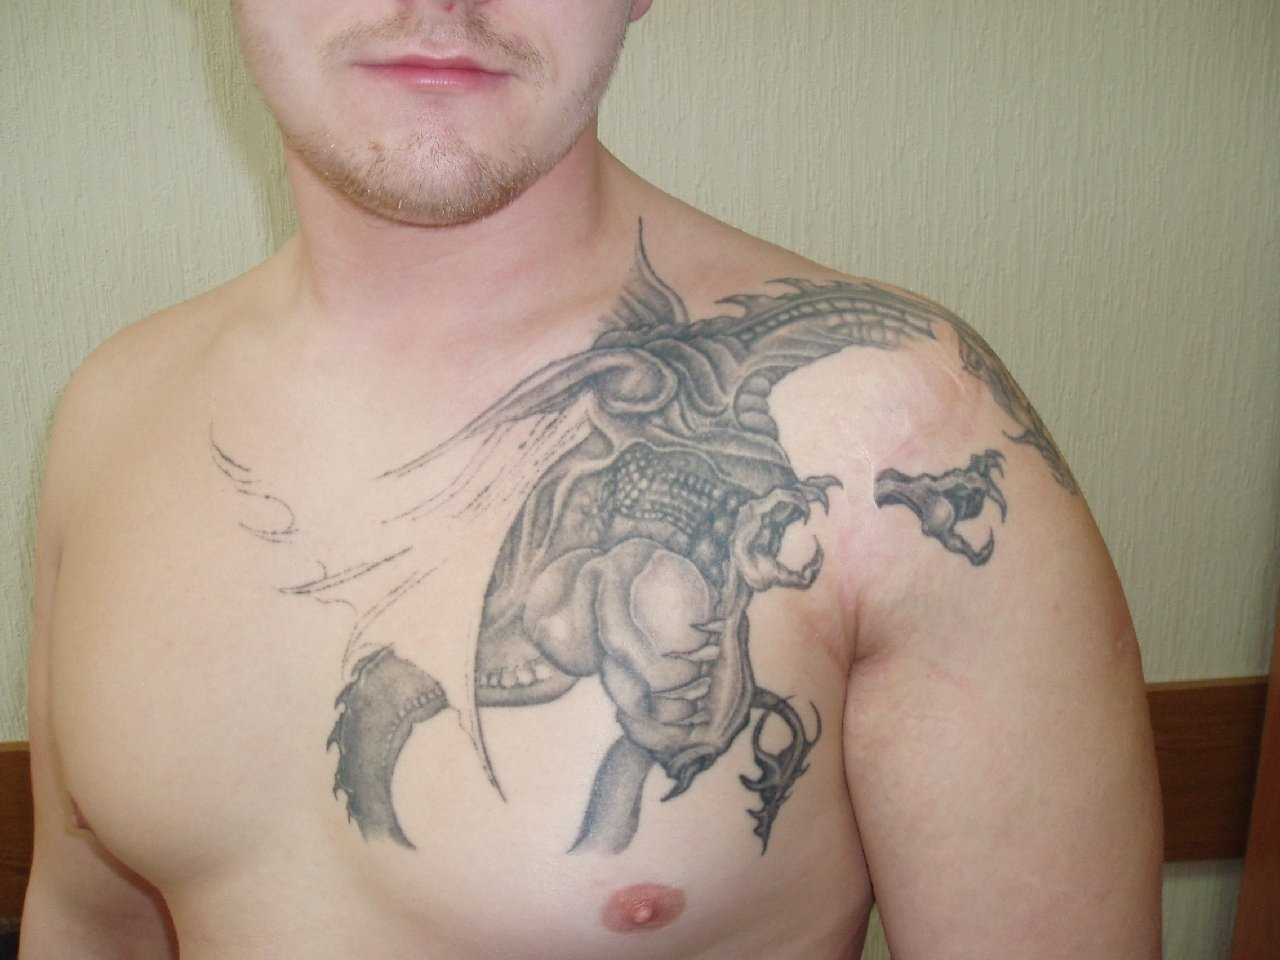tatu6_drakon: (189, 252, 1166, 877)
